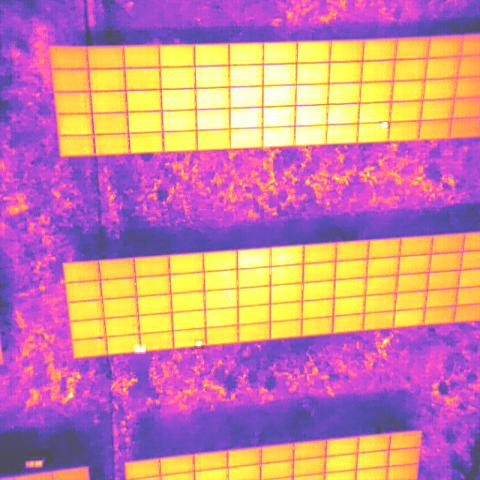fault: (134, 344, 146, 354), (194, 339, 204, 349), (379, 121, 389, 129)
